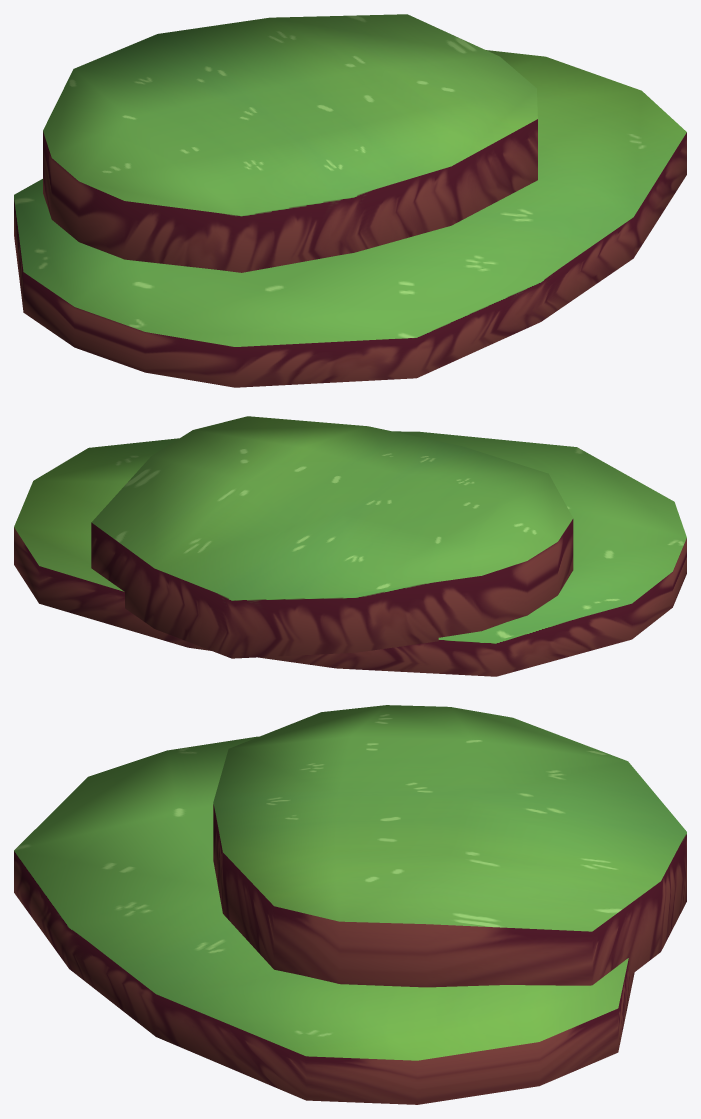
Rendered from island_03.gltf.
3 views of the same model, one above another, from view 1: azimuth 30°, elevation 25°; view 2: azimuth 150°, elevation 25°; view 3: azimuth 270°, elevation 25° (orthographic). The views are drawn at different scales.
Visible parts, largest first — view 1: Island03Mesh -col; view 2: Island03Mesh -col; view 3: Island03Mesh -col.
Boxes of the visible parts, x1,y1,x2,y2 form: Island03Mesh -col: (14,14,686,387); Island03Mesh -col: (14,416,686,676); Island03Mesh -col: (14,705,686,1104).
Bounding box in the file's own units: 12.73 × 2.17 × 11.06.
1 material, 1 textured.
